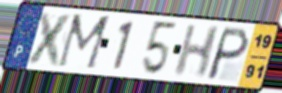1: (112, 20, 138, 71)
5: (139, 21, 180, 77)
H: (171, 24, 223, 80)
M: (54, 12, 114, 72)
P: (204, 26, 252, 83)
X: (24, 10, 77, 69)
